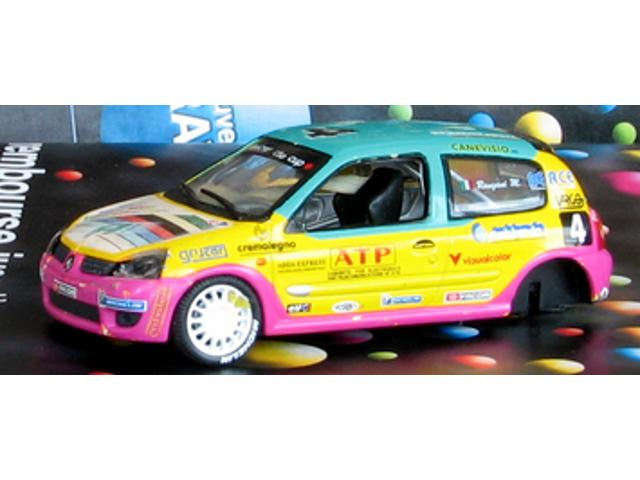toy-car: (38, 120, 614, 370)
